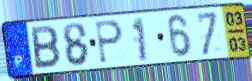1: (130, 16, 151, 63)
6: (166, 13, 193, 59)
7: (197, 10, 219, 57)
8: (60, 22, 91, 68)
B: (29, 24, 62, 71)
P: (94, 19, 124, 65)
